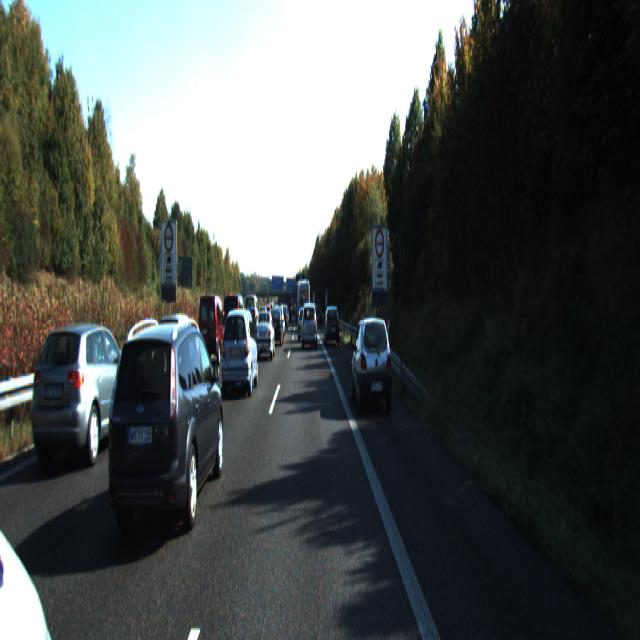Car: (104, 318, 225, 553), (0, 336, 74, 638), (29, 319, 137, 474), (350, 313, 393, 414), (154, 312, 201, 394), (220, 306, 259, 396), (197, 294, 224, 366), (222, 294, 248, 352), (254, 309, 276, 360), (302, 303, 317, 351), (324, 303, 340, 344), (270, 308, 285, 347)
